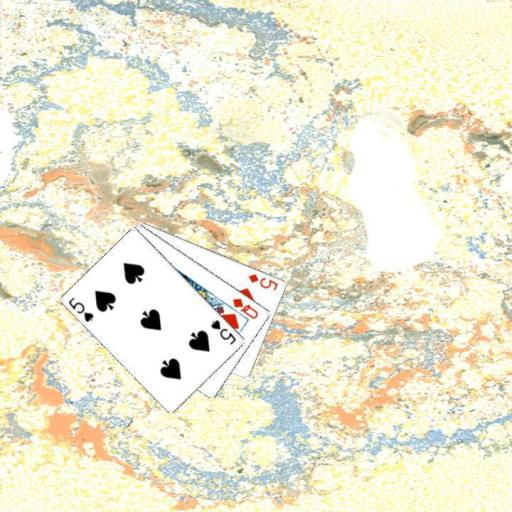card-corner: (208, 316, 238, 346), (66, 294, 96, 324), (230, 295, 260, 320), (246, 270, 280, 292)
